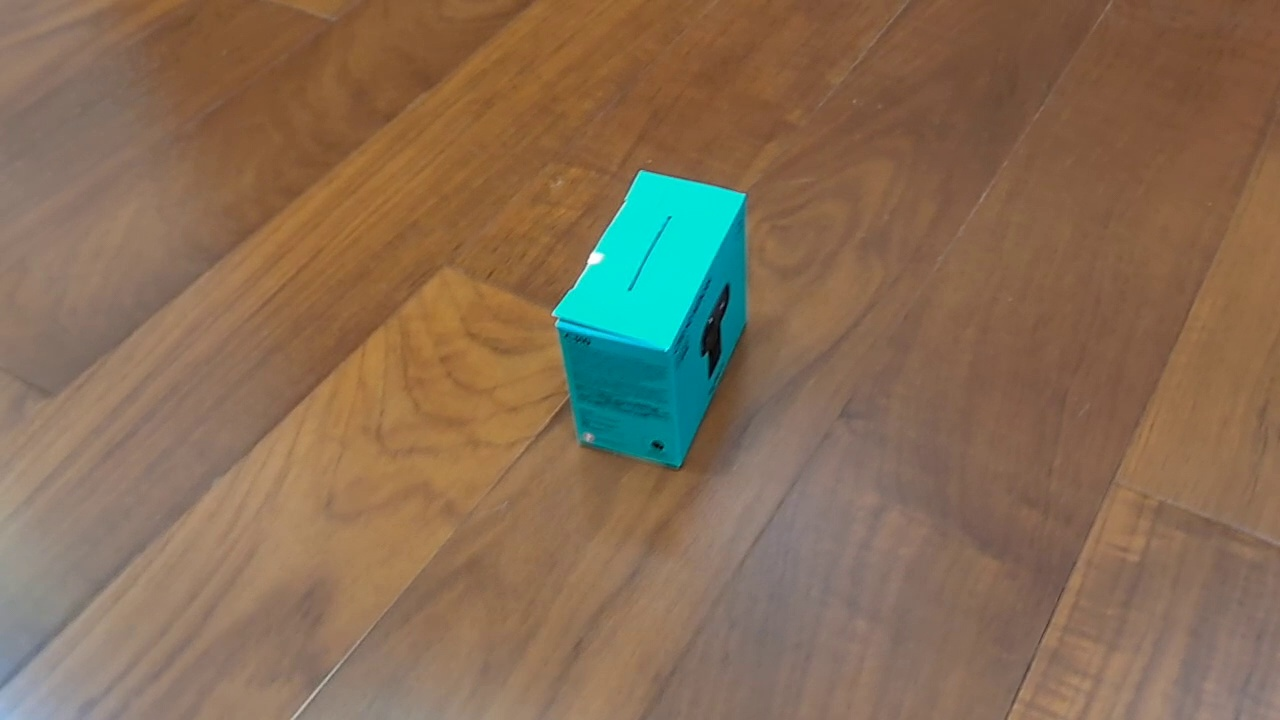webcam: (550, 168, 749, 471)
